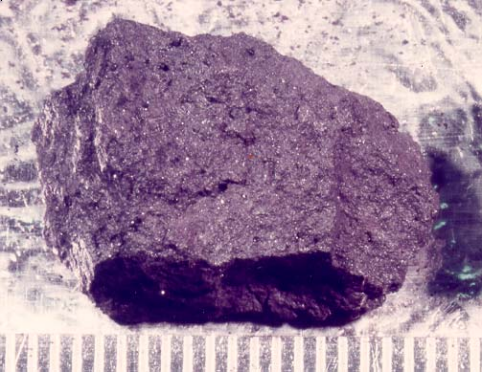Basalt: (39, 36, 416, 311)
